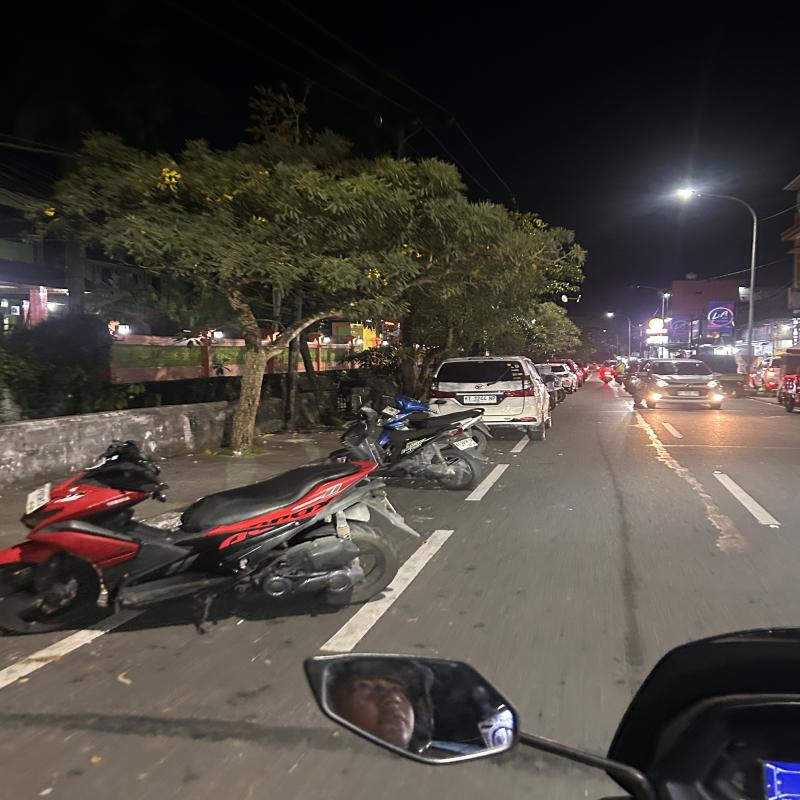license plate on a car: (462, 394, 501, 404), (678, 390, 702, 398)
